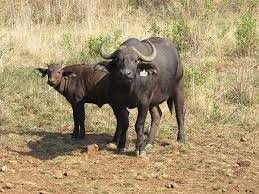buffalo: (142, 95, 229, 194), (76, 103, 163, 181)
